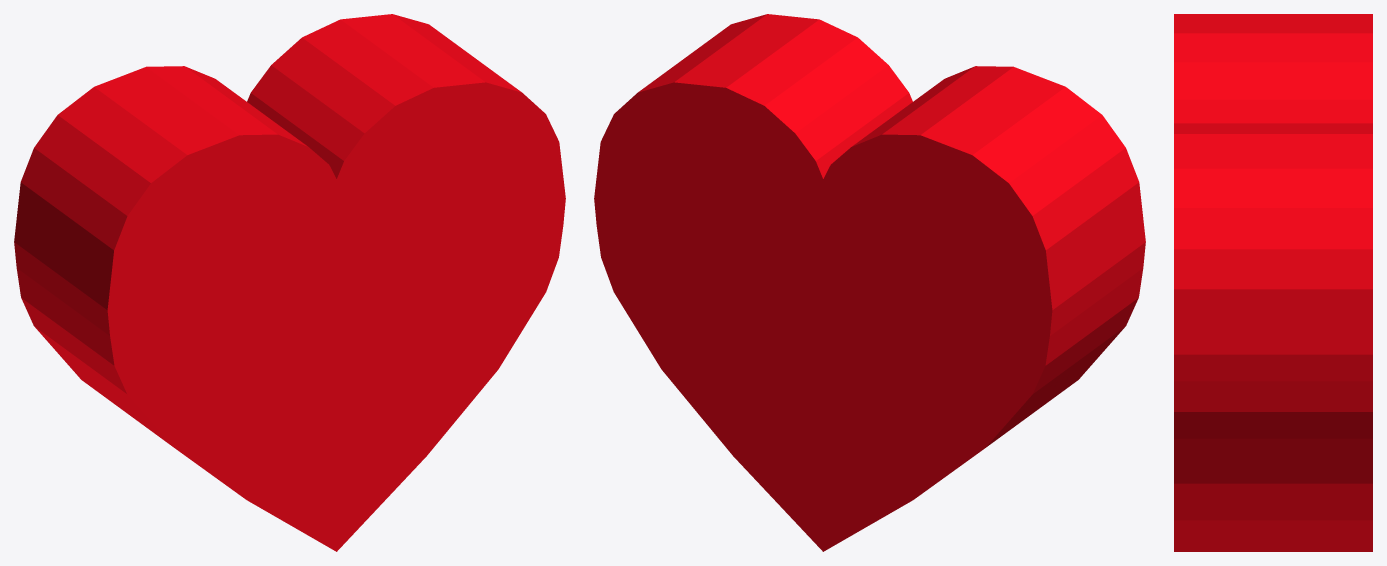
Rendered from tinker.obj.
3 views of the same model, side by side, from view 1: azimuth 30°, elevation 25°; view 2: azimuth 150°, elevation 25°; view 3: azimuth 270°, elevation 25° (orthographic). The views are drawn at different scales.
Visible parts, largest first — view 1: obj_0; view 2: obj_0; view 3: obj_0.
Part boxes in pixels (x1,y1,x2,y2): obj_0: [14, 14, 565, 551]; obj_0: [594, 14, 1145, 551]; obj_0: [1174, 14, 1372, 551].
Bounding box in the file's own units: 28.31 × 26 × 10.
